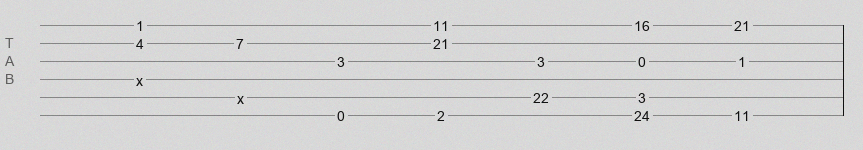0: (337, 108, 345, 118), (638, 54, 646, 64)
1: (136, 18, 144, 28), (738, 54, 746, 64)
11: (433, 18, 449, 28), (734, 108, 750, 118)
16: (634, 18, 650, 28)
2: (437, 108, 445, 118)
21: (433, 36, 449, 46), (734, 18, 750, 28)
22: (533, 90, 549, 100)
24: (634, 108, 650, 118)
3: (337, 54, 345, 64), (537, 54, 545, 64), (638, 90, 646, 100)
4: (136, 36, 144, 46)
7: (236, 36, 244, 46)
x: (136, 73, 143, 81), (237, 91, 244, 99)
